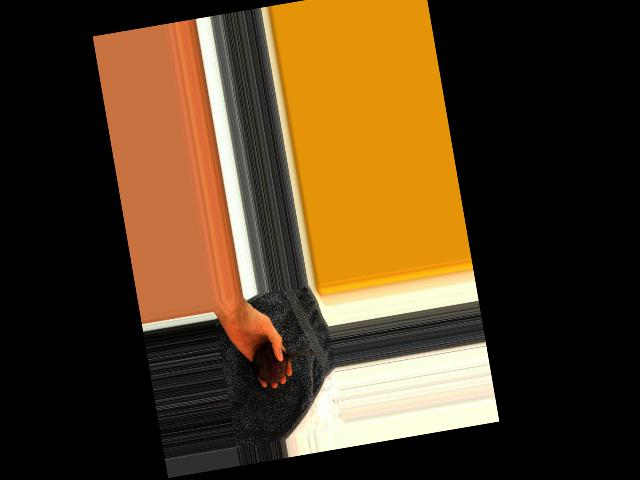beet: (248, 335, 320, 387)
